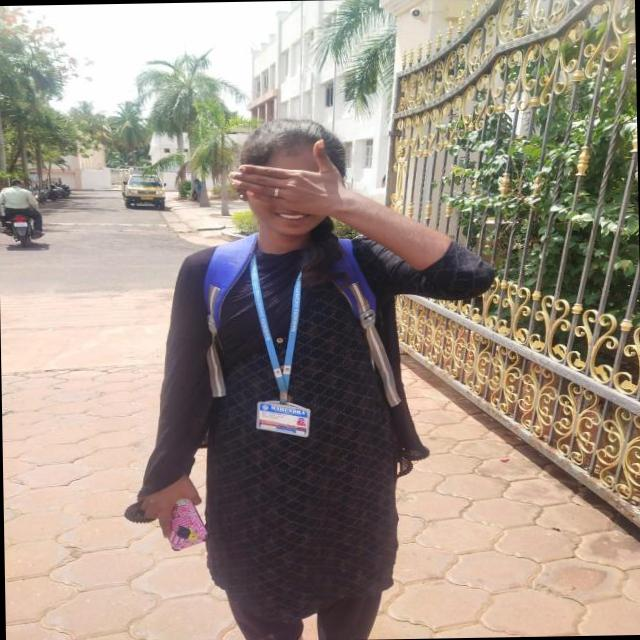id_card: (251, 244, 315, 444)
